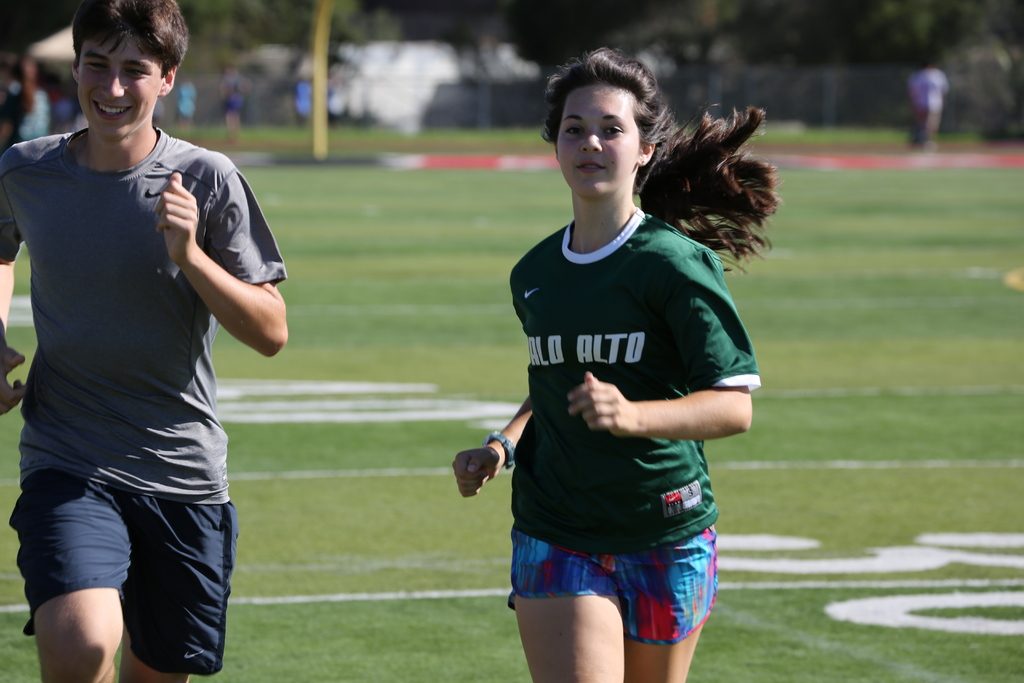Human-face: (556, 84, 639, 192), (78, 33, 161, 140)
